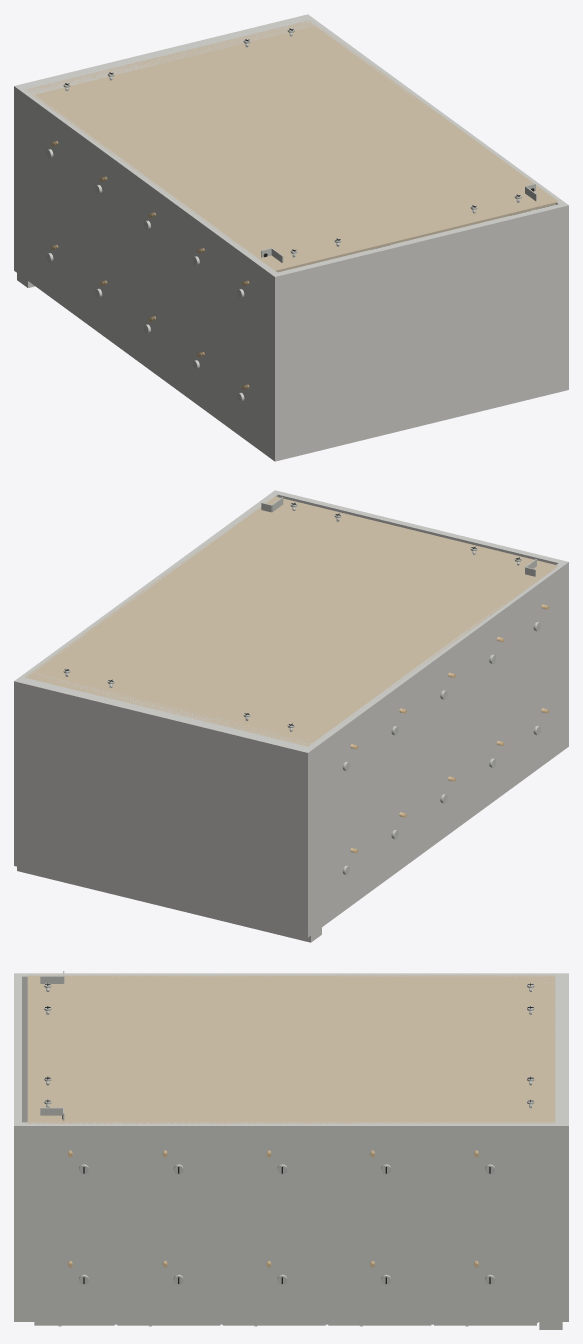
File: MALM.glb
3 renders of one model, top to bottom at view 1: azimuth 30°, elevation 25°; view 2: azimuth 150°, elevation 25°; view 3: azimuth 270°, elevation 25°, orthographic. The views are drawn at different scales.
Visible parts, largest first — view 1: carcass_back_hardboard_panel_110121, carcass_top_panel, carcass_left_side_panel_118788, carcass_rear_bottom_plinth, carcass_right_side_panel_118789, carcass_bottom_panel; view 2: carcass_back_hardboard_panel_110121, carcass_bottom_panel, carcass_left_side_panel_118788, carcass_right_side_panel_118789, carcass_rear_bottom_plinth, carcass_top_panel, carcass_front_bottom_plinth; view 3: carcass_right_side_panel_118789, carcass_back_hardboard_panel_110121, carcass_left_side_panel_118788, carcass_bottom_panel, carcass_top_panel, carcass_rear_bottom_plinth.
Part boxes in pixels (bbox=[...]): carcass_back_hardboard_panel_110121: bbox=[25, 20, 558, 272]; carcass_top_panel: bbox=[271, 202, 568, 461]; carcass_left_side_panel_118788: bbox=[14, 84, 281, 461]; carcass_rear_bottom_plinth: bbox=[18, 17, 320, 103]; carcass_right_side_panel_118789: bbox=[302, 14, 568, 390]; carcass_bottom_panel: bbox=[14, 15, 309, 270]; carcass_back_hardboard_panel_110121: bbox=[24, 496, 558, 746]; carcass_bottom_panel: bbox=[14, 680, 311, 937]; carcass_left_side_panel_118788: bbox=[301, 560, 568, 937]; carcass_right_side_panel_118789: bbox=[14, 490, 280, 866]; carcass_rear_bottom_plinth: bbox=[22, 671, 321, 759]; carcass_top_panel: bbox=[273, 490, 568, 746]; carcass_front_bottom_plinth: bbox=[17, 866, 321, 942]; carcass_right_side_panel_118789: bbox=[14, 1122, 568, 1321]; carcass_back_hardboard_panel_110121: bbox=[27, 975, 555, 1123]; carcass_left_side_panel_118788: bbox=[14, 973, 568, 1122]; carcass_bottom_panel: bbox=[561, 973, 568, 1321]; carcass_top_panel: bbox=[14, 973, 21, 1321]; carcass_rear_bottom_plinth: bbox=[539, 973, 562, 1135].
Size of the model in its own units: 0.8319 by 0.5385 by 1.23.
